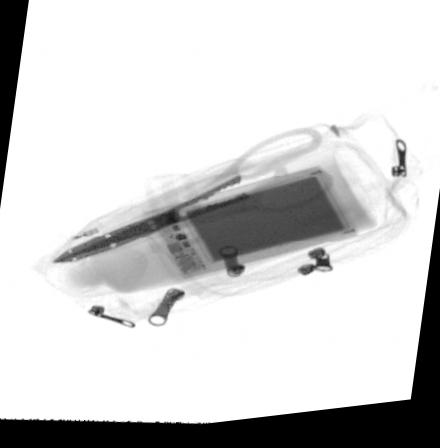Powerbank: (136, 173, 356, 288)
Scissors: (47, 136, 335, 266)
